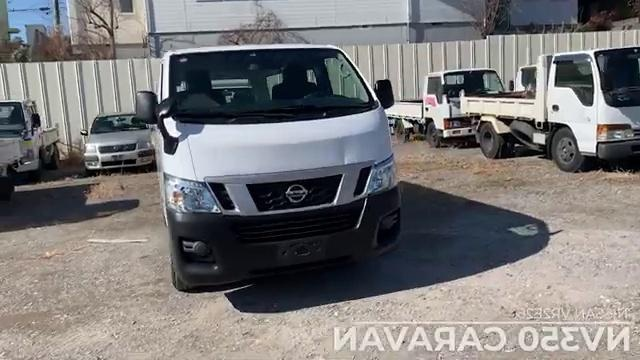van: (157, 42, 398, 294)
